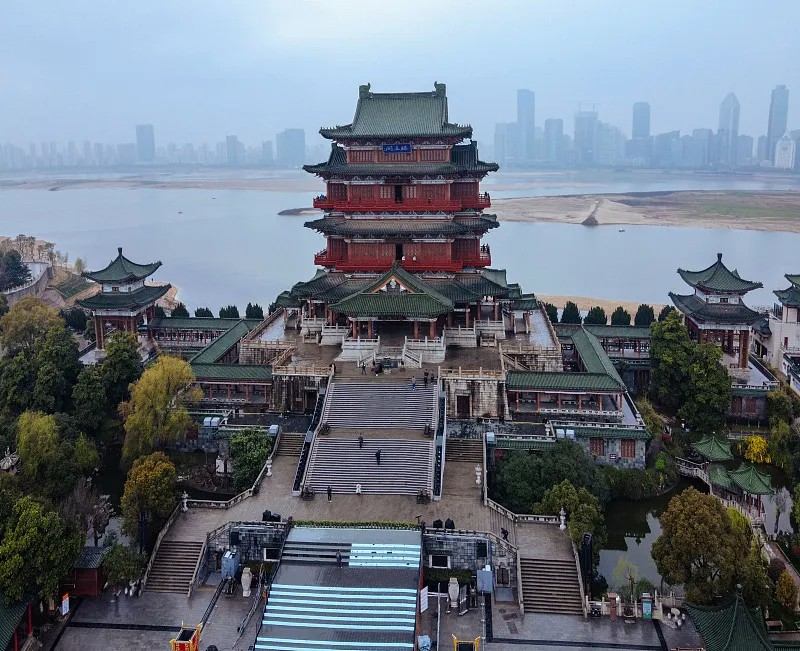Teng: (274, 80, 541, 343)
